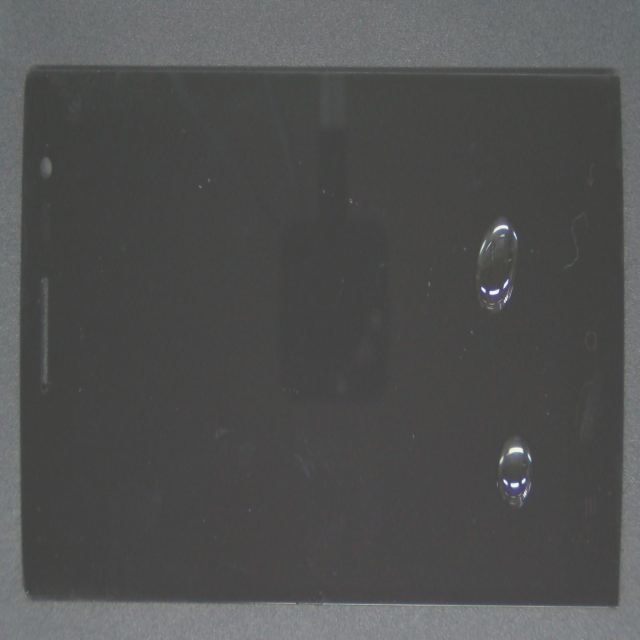oil: (263, 171, 640, 640), (268, 139, 640, 351)
